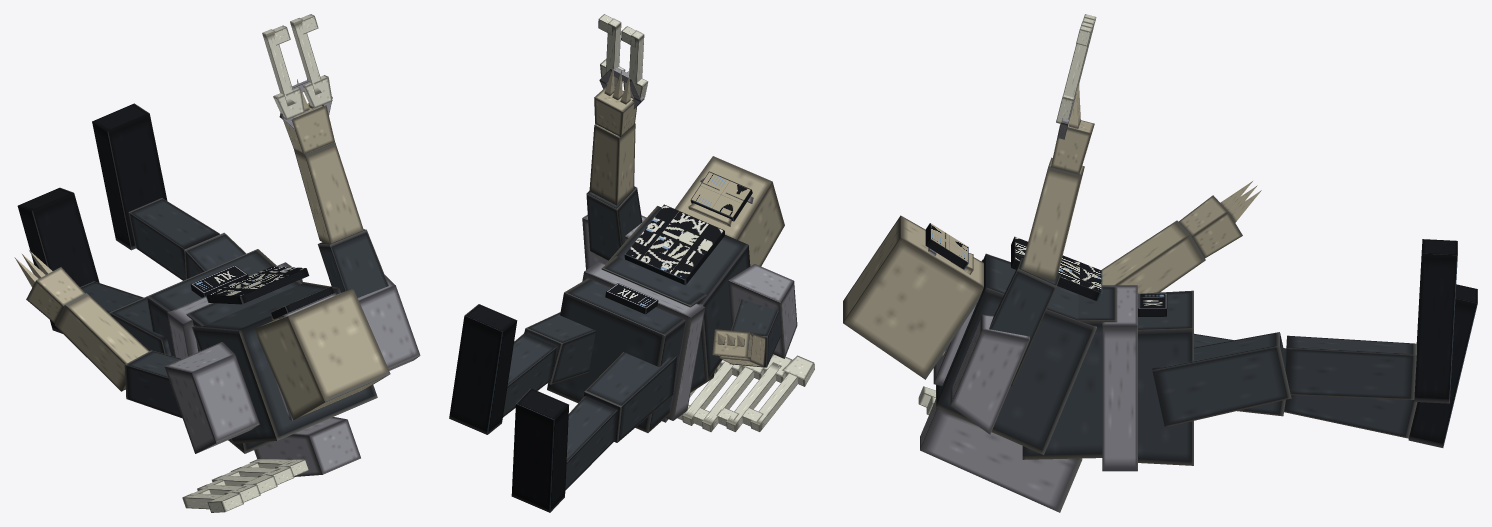
Rendered from absentiel_attack.obj.
3 views of the same model, side by side, from view 1: azimuth 30°, elevation 25°; view 2: azimuth 150°, elevation 25°; view 3: azimuth 270°, elevation 25° (orthographic). The views are drawn at different scales.
Visible parts, largest first — view 1: absentiel_attack; view 2: absentiel_attack; view 3: absentiel_attack.
Part boxes in pixels (x1,y1,x2,y2): absentiel_attack: (14,14,420,512); absentiel_attack: (449,14,814,512); absentiel_attack: (843,14,1477,512).
Size of the model in its own units: 0.6035 by 0.9023 by 1.04.
Materials: 1 (1 with a texture image).
